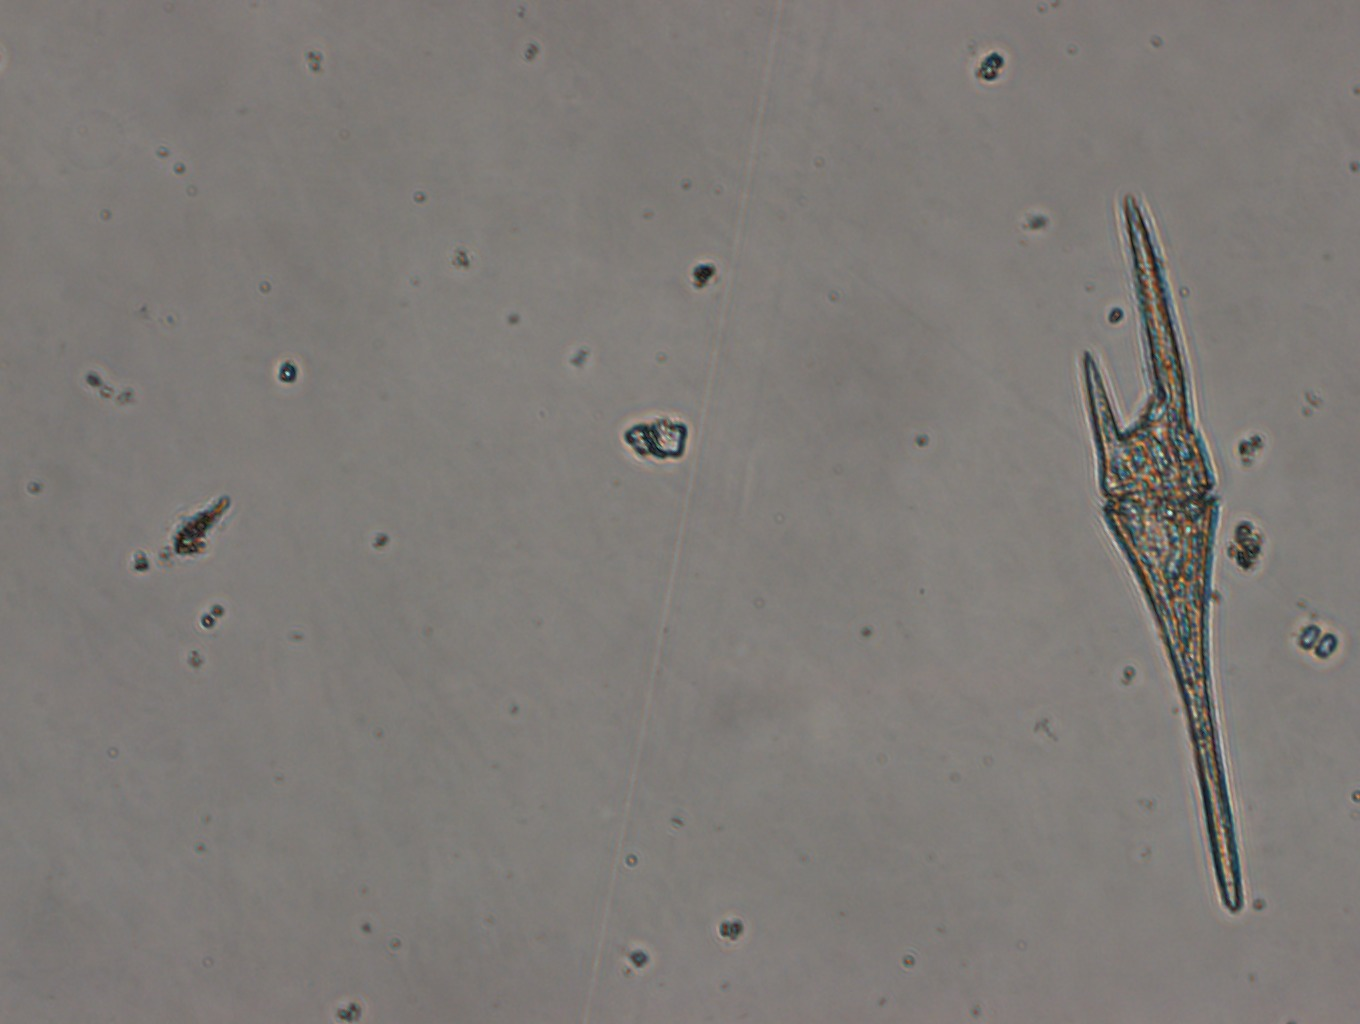ceratium furca: (1080, 189, 1244, 916)
